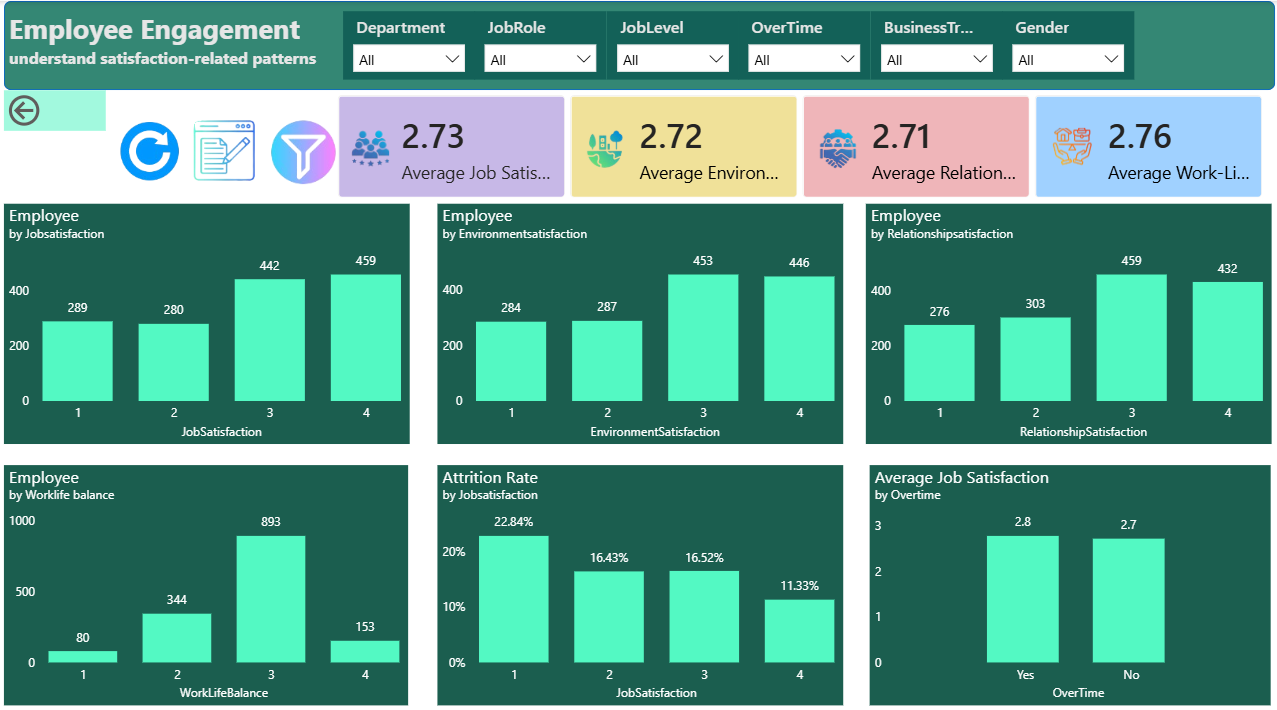

The page's visual inventory and layout, read from the dashboard file:
{"tool":"powerbi","page":{"name":"Employee Engagement","canvas":[1280,720],"ordinal":3},"visuals":[{"type":"shape","box":[9.1,0,1253,87.9],"z":0},{"type":"textbox","box":[8.6,4.3,365.7,84.3],"z":1000},{"type":"slicer","fields":{"Values":["HR.Department"]},"box":[342.9,10,130,67.1],"z":2000},{"type":"slicer","fields":{"Values":["HR.JobRole"]},"box":[472.9,10,130,67.1],"z":3000},{"type":"slicer","fields":{"Values":["HR.JobLevel"]},"box":[602.9,10,130,67.1],"z":4000},{"type":"slicer","fields":{"Values":["HR.OverTime"]},"box":[732.9,10,130,67.1],"z":5000},{"type":"slicer","fields":{"Values":["HR.BusinessTravel"]},"box":[862.9,10,130,67.1],"z":6000},{"type":"slicer","fields":{"Values":["HR.Gender"]},"box":[992.9,10,130,67.1],"z":7000},{"type":"cardVisual","fields":{"Data":["#MEASURES.Average Job Satisfaction","#MEASURES.Average Environment Satisfaction","#MEASURES.Average Relationship Satisfaction","#MEASURES.Average Work-Life Balance"]},"box":[332.7,88,925,111.9],"z":8000},{"type":"clusteredColumnChart","title":"Employee","fields":{"Category":["HR.JobSatisfaction"],"Y":["#MEASURES.Total Employees"]},"box":[8.6,200,400,237.1],"z":9000},{"type":"clusteredColumnChart","title":"Employee","fields":{"Category":["HR.EnvironmentSatisfaction"],"Y":["#MEASURES.Total Employees"]},"box":[435.7,200,400,237.1],"z":10000},{"type":"clusteredColumnChart","title":"Employee","fields":{"Category":["HR.RelationshipSatisfaction"],"Y":["#MEASURES.Total Employees"]},"box":[858.6,200,400,237.1],"z":11000},{"type":"clusteredColumnChart","title":"Employee","fields":{"Category":["HR.WorkLifeBalance"],"Y":["#MEASURES.Total Employees"]},"box":[9,458,398.3,237.2],"z":12000},{"type":"clusteredColumnChart","title":"Attrition Rate","fields":{"Category":["HR.JobSatisfaction"],"Y":["#MEASURES.Attrition Rate"]},"box":[435.6,458,399.8,237.2],"z":13000},{"type":"clusteredColumnChart","title":"Average Job Satisfaction","fields":{"Category":["HR.OverTime"],"Y":["#MEASURES.Average Job Satisfaction"]},"box":[862.3,458,395.4,237.2],"z":14000},{"type":"actionButton","box":[9,88,100,40],"z":15000},{"type":"image","box":[108.9,108.9,92.6,75.6],"z":16000},{"type":"image","box":[186.5,108.9,79.4,75.6],"z":17000},{"type":"image","box":[265.6,107.4,77.6,77.6],"z":19000}]}

Visuals, with their boxes in screenshot pixels (x1, y1, x2, y2), scaled from the page's 1280x720 canvas onto the 1277x710 screenshot:
shape: 9,0,1259,87
textbox: 9,4,373,87
slicer - HR.Department: 342,10,472,76
slicer - HR.JobRole: 472,10,601,76
slicer - HR.JobLevel: 601,10,731,76
slicer - HR.OverTime: 731,10,861,76
slicer - HR.BusinessTravel: 861,10,991,76
slicer - HR.Gender: 991,10,1120,76
cardVisual - #MEASURES.Average Job Satisfaction x #MEASURES.Average Environment Satisfaction: 332,87,1255,197
"Employee" clusteredColumnChart: 9,197,408,431
"Employee" clusteredColumnChart: 435,197,834,431
"Employee" clusteredColumnChart: 857,197,1256,431
"Employee" clusteredColumnChart: 9,452,406,686
"Attrition Rate" clusteredColumnChart: 435,452,833,686
"Average Job Satisfaction" clusteredColumnChart: 860,452,1255,686
actionButton: 9,87,109,126
image: 109,107,201,182
image: 186,107,265,182
image: 265,106,342,182
